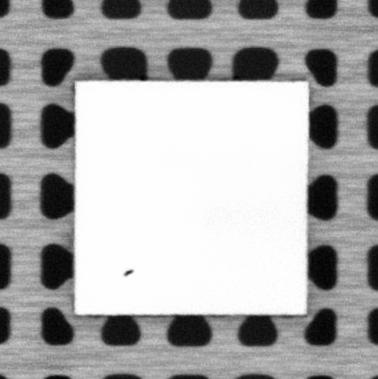DIE_INK: (121, 265, 134, 278)
